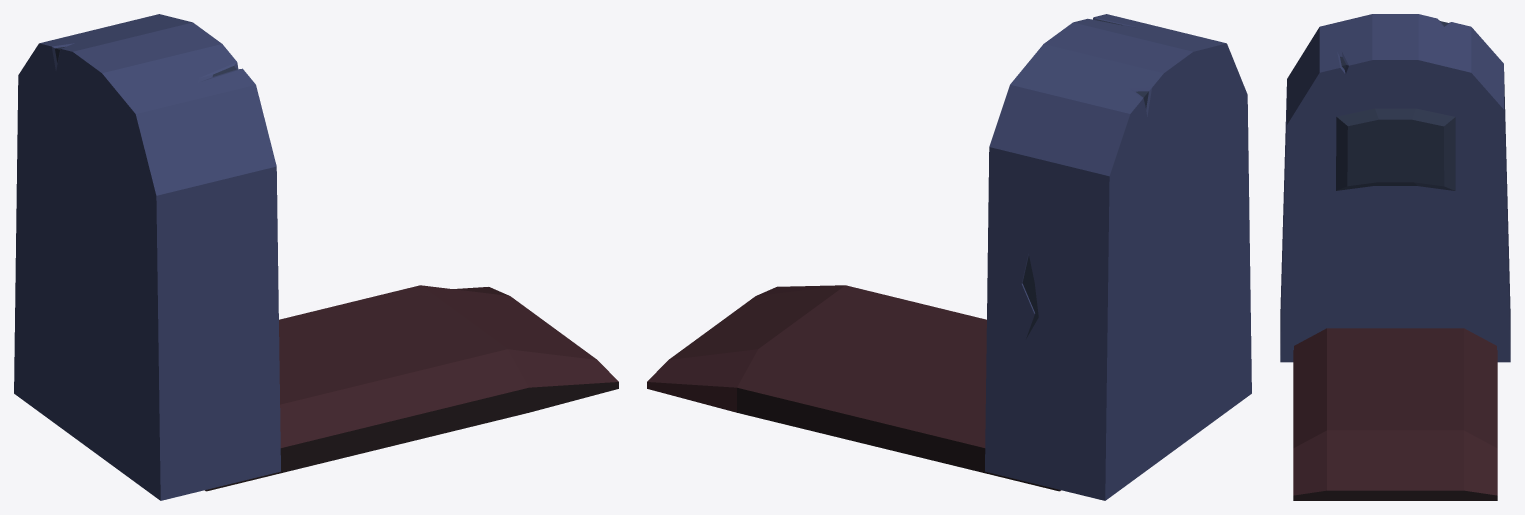
The model's file is grave.fbx.
The picture shows the model from 3 angles, left to right: view 1: azimuth 30°, elevation 25°; view 2: azimuth 150°, elevation 25°; view 3: azimuth 270°, elevation 25°; orthographic projection. The views are drawn at different scales.
Parts seen in each view (by area): view 1: Cube; view 2: Cube; view 3: Cube.
Part boxes in pixels (<box>): Cube: <box>14,14,618,500</box>; Cube: <box>647,14,1251,500</box>; Cube: <box>1280,14,1510,500</box>.
Size of the model in its own units: 367 by 297 by 200.
